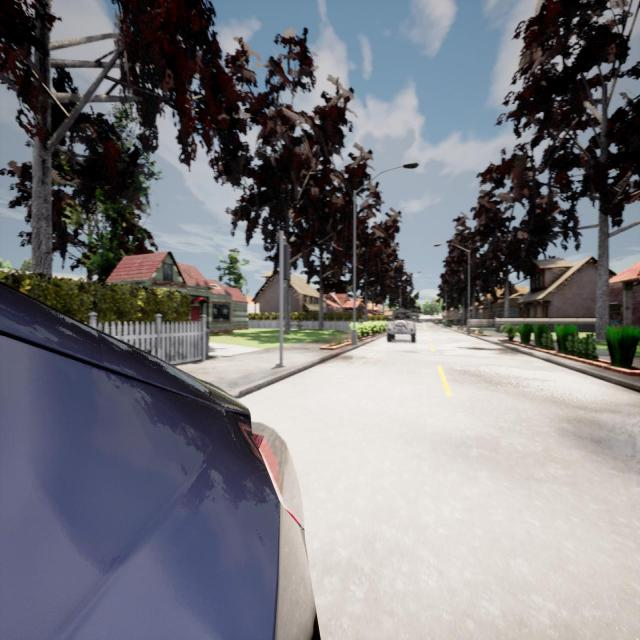Vehicle: (0, 283, 318, 638), (386, 309, 418, 343)
traffic_light: (282, 242, 290, 284)
